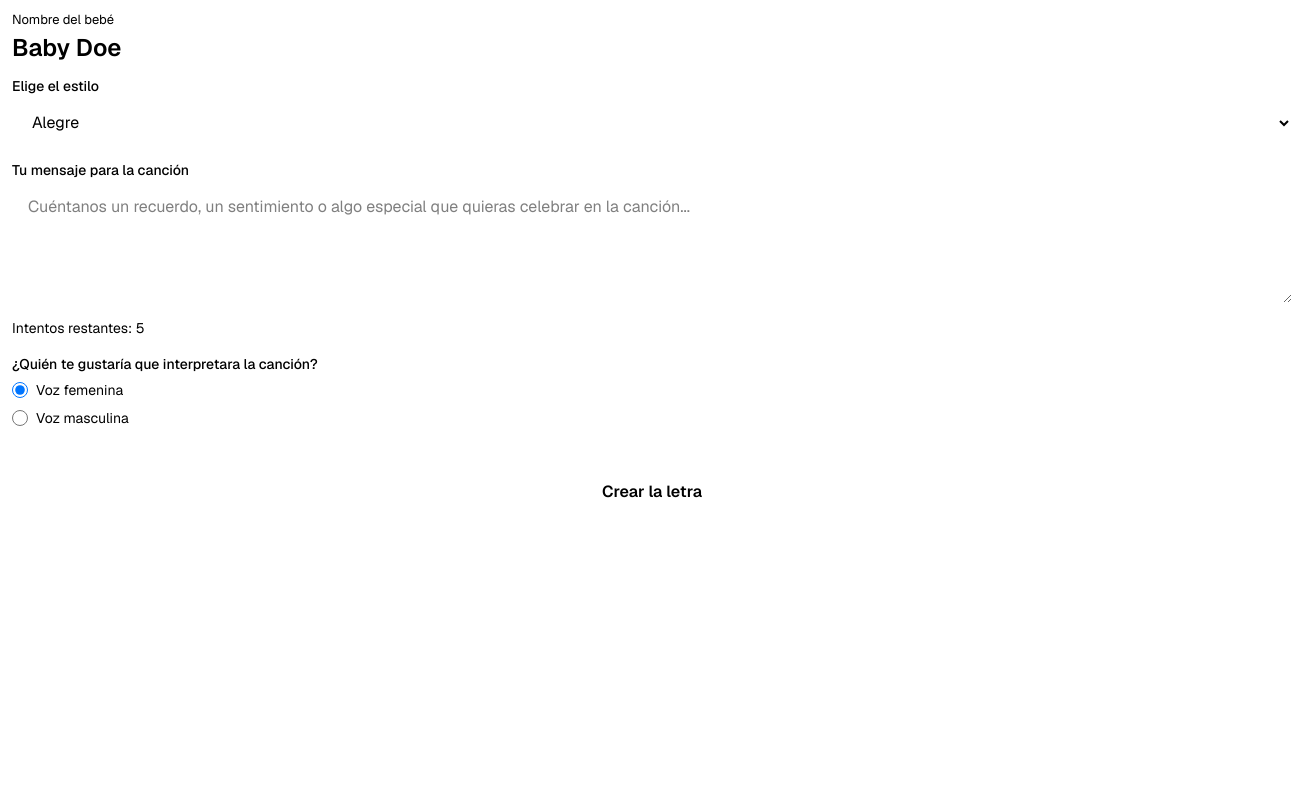
Test case: LyricsWorkflow › shows a rejection message and stays on the generation form
Type "bad content" into the text box labelled "Tu mensaje para la canción". click: (652, 243)
box: [12,183,1292,303]
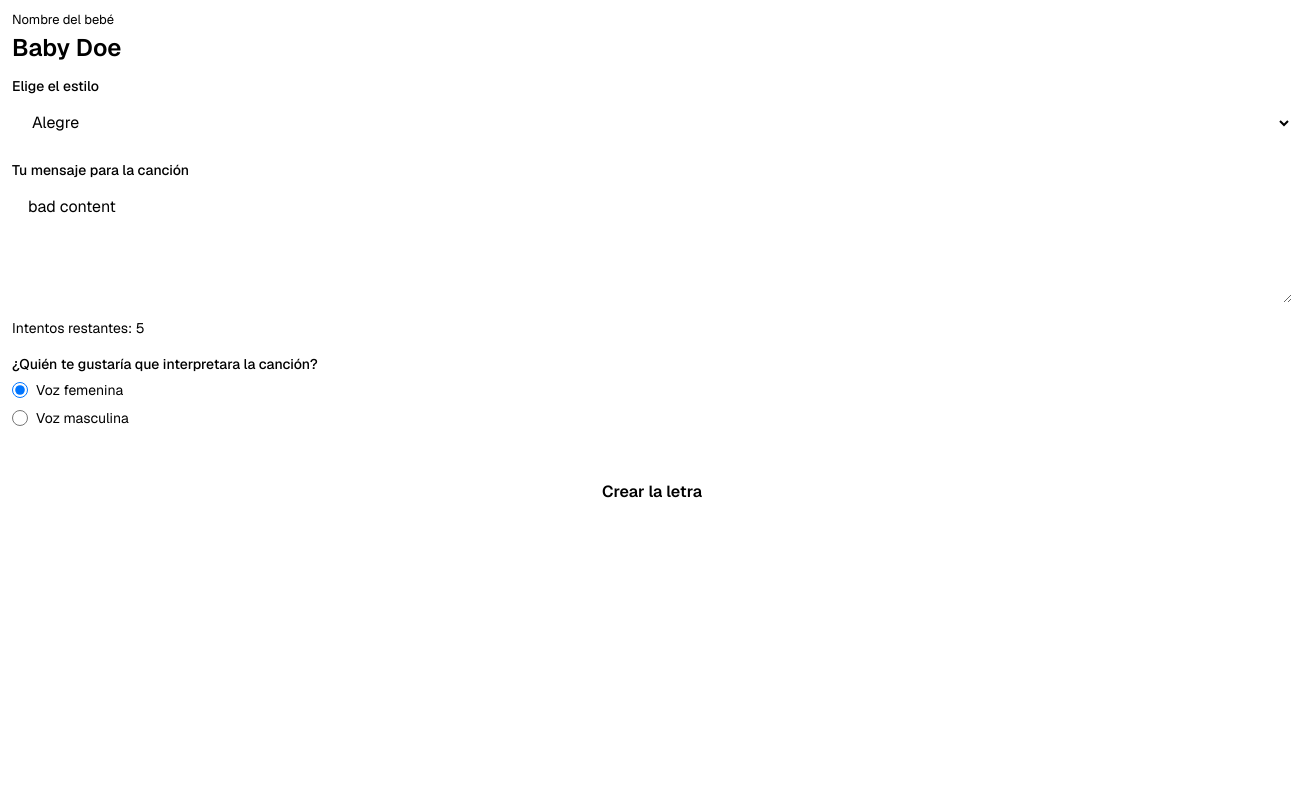
Click the button "Crear la letra". click: (652, 492)
box: [12,468,1292,516]
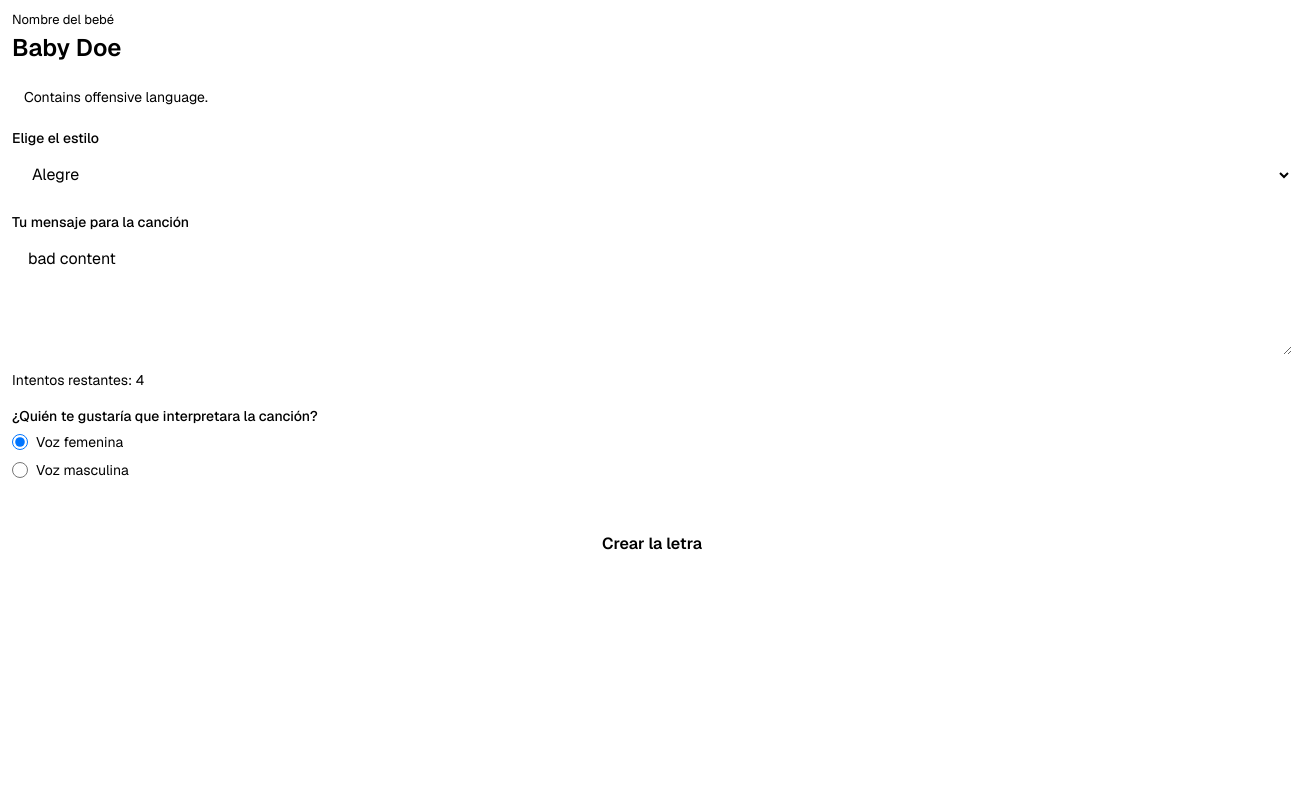
Expected: the button "Crear la letra" is shown, [12,520,1292,568]
Expected: the text "Contains offensive language." is shown, [24,88,208,106]
Expected: the text "Intentos restantes: 4" is shown, [12,371,144,389]
